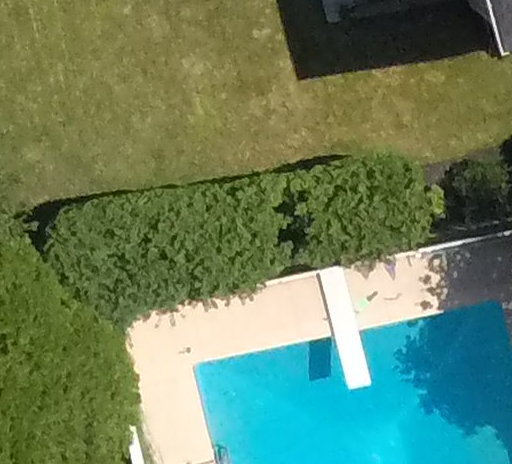pool: (99, 230, 512, 464)
